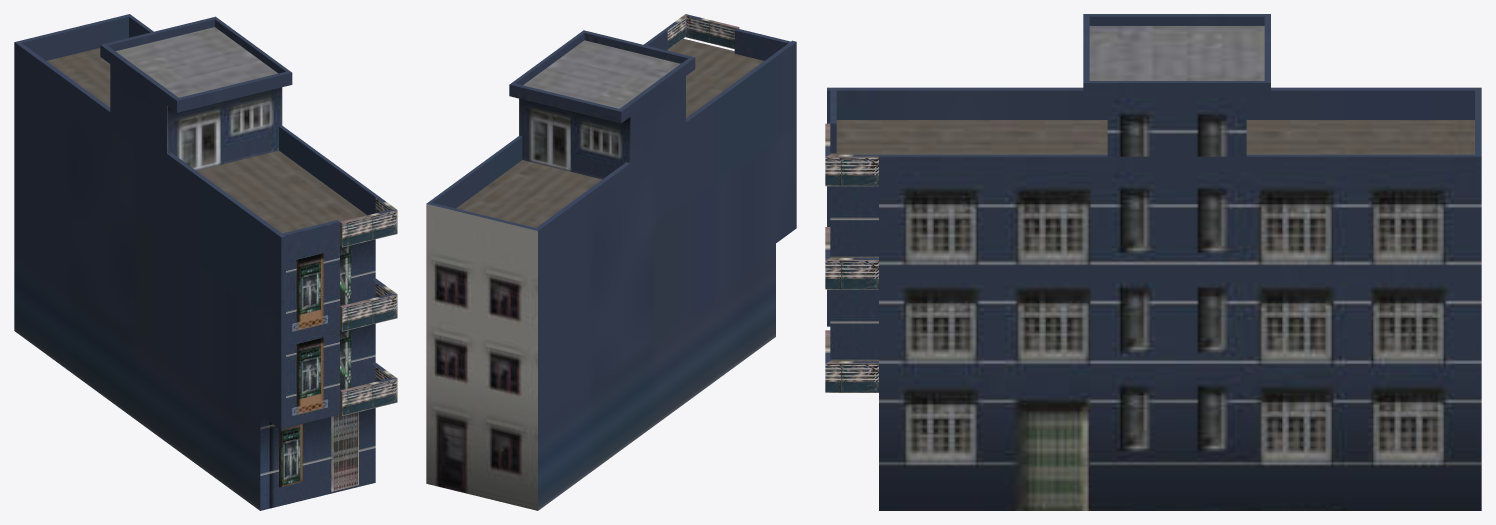
3 renders of one model, left to right at view 1: azimuth 30°, elevation 25°; view 2: azimuth 150°, elevation 25°; view 3: azimuth 270°, elevation 25°, orthographic. The views are drawn at different scales.
Visible parts, largest first — view 1: 5da8310f819c6a1e5c6ed358.001; view 2: 5da8310f819c6a1e5c6ed358.001; view 3: 5da8310f819c6a1e5c6ed358.001.
Part boxes in pixels (box(x1,y1,x2,y2)): 5da8310f819c6a1e5c6ed358.001: box(14, 14, 397, 510); 5da8310f819c6a1e5c6ed358.001: box(426, 14, 796, 510); 5da8310f819c6a1e5c6ed358.001: box(825, 14, 1481, 510).
Size of the model in its own units: 5.01 by 14.5 by 20.15.
1 material, 1 textured.
